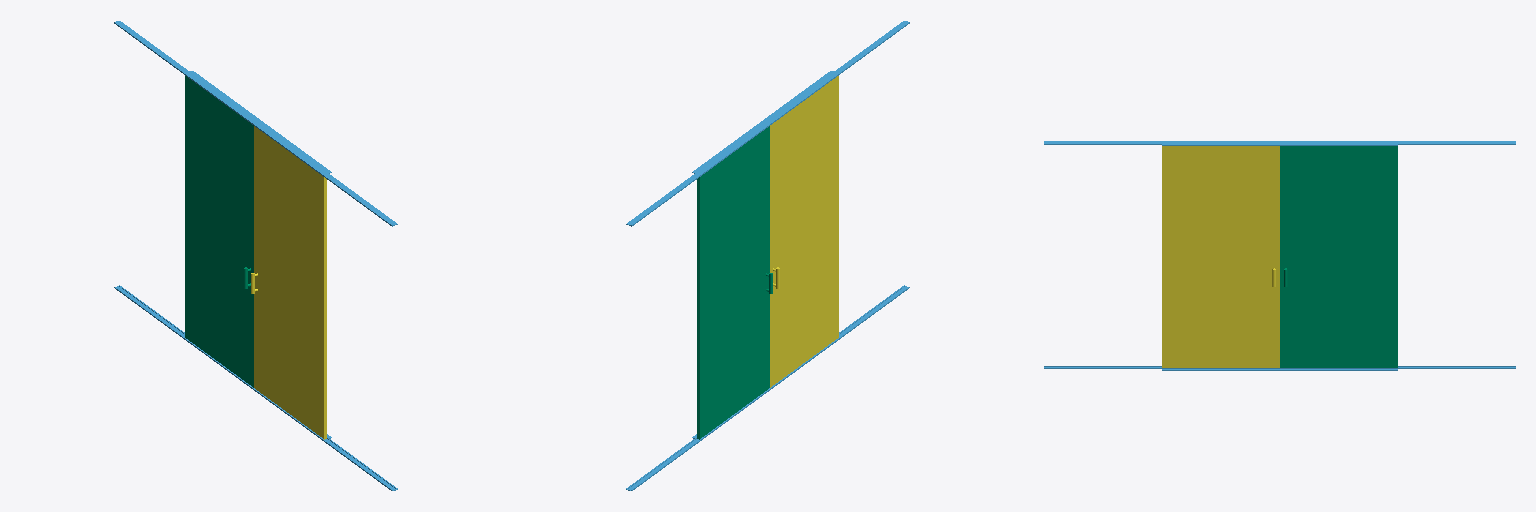
URDF robot description (partnet_5ef7a6f3cf04e24c78c8381b988b6539):
<?xml version="1.0" ?>
<robot name="partnet_5ef7a6f3cf04e24c78c8381b988b6539">
	<link name="base"/>
	<link name="link_0">
		<visual name="outside_frame-1">
			<origin xyz="0 0 0"/>
			<geometry>
				<mesh filename="textured_objs/new-0.obj"/>
			</geometry>
		</visual>
		<visual name="outside_frame-1">
			<origin xyz="0 0 0"/>
			<geometry>
				<mesh filename="textured_objs/new-1.obj"/>
			</geometry>
		</visual>
		<collision>
			<origin xyz="0 0 0"/>
			<geometry>
				<mesh filename="textured_objs/new-0.obj"/>
			</geometry>
		</collision>
		<collision>
			<origin xyz="0 0 0"/>
			<geometry>
				<mesh filename="textured_objs/new-1.obj"/>
			</geometry>
		</collision>
	</link>
	<joint name="joint_0" type="fixed">
		<origin rpy="1.570796326794897 0 -1.570796326794897" xyz="0 0 0"/>
		<child link="link_0"/>
		<parent link="base"/>
	</joint>
	<link name="link_1">
		<visual name="surface_board-28">
			<origin xyz="0.440790408373658 -0.4935119999999995 0.0004750520092618093"/>
			<geometry>
				<mesh filename="textured_objs/new-2.obj"/>
			</geometry>
		</visual>
		<visual name="fixed_part-26">
			<origin xyz="0.440790408373658 -0.4935119999999995 0.0004750520092618093"/>
			<geometry>
				<mesh filename="textured_objs/original-16.obj"/>
			</geometry>
		</visual>
		<visual name="fixed_part-26">
			<origin xyz="0.440790408373658 -0.4935119999999995 0.0004750520092618093"/>
			<geometry>
				<mesh filename="textured_objs/original-17.obj"/>
			</geometry>
		</visual>
		<visual name="fixed_part-26">
			<origin xyz="0.440790408373658 -0.4935119999999995 0.0004750520092618093"/>
			<geometry>
				<mesh filename="textured_objs/original-15.obj"/>
			</geometry>
		</visual>
		<visual name="fixed_part-21">
			<origin xyz="0.440790408373658 -0.4935119999999995 0.0004750520092618093"/>
			<geometry>
				<mesh filename="textured_objs/original-4.obj"/>
			</geometry>
		</visual>
		<visual name="fixed_part-21">
			<origin xyz="0.440790408373658 -0.4935119999999995 0.0004750520092618093"/>
			<geometry>
				<mesh filename="textured_objs/original-5.obj"/>
			</geometry>
		</visual>
		<visual name="fixed_part-21">
			<origin xyz="0.440790408373658 -0.4935119999999995 0.0004750520092618093"/>
			<geometry>
				<mesh filename="textured_objs/original-3.obj"/>
			</geometry>
		</visual>
		<collision>
			<origin xyz="0.440790408373658 -0.4935119999999995 0.0004750520092618093"/>
			<geometry>
				<mesh filename="textured_objs/new-2.obj"/>
			</geometry>
		</collision>
		<collision>
			<origin xyz="0.440790408373658 -0.4935119999999995 0.0004750520092618093"/>
			<geometry>
				<mesh filename="textured_objs/original-16.obj"/>
			</geometry>
		</collision>
		<collision>
			<origin xyz="0.440790408373658 -0.4935119999999995 0.0004750520092618093"/>
			<geometry>
				<mesh filename="textured_objs/original-17.obj"/>
			</geometry>
		</collision>
		<collision>
			<origin xyz="0.440790408373658 -0.4935119999999995 0.0004750520092618093"/>
			<geometry>
				<mesh filename="textured_objs/original-15.obj"/>
			</geometry>
		</collision>
		<collision>
			<origin xyz="0.440790408373658 -0.4935119999999995 0.0004750520092618093"/>
			<geometry>
				<mesh filename="textured_objs/original-4.obj"/>
			</geometry>
		</collision>
		<collision>
			<origin xyz="0.440790408373658 -0.4935119999999995 0.0004750520092618093"/>
			<geometry>
				<mesh filename="textured_objs/original-5.obj"/>
			</geometry>
		</collision>
		<collision>
			<origin xyz="0.440790408373658 -0.4935119999999995 0.0004750520092618093"/>
			<geometry>
				<mesh filename="textured_objs/original-3.obj"/>
			</geometry>
		</collision>
	</link>
	<joint name="joint_1" type="continuous">
		<origin xyz="-0.440790408373658 0.4935119999999995 -0.0004750520092618093"/>
		<axis xyz="0 1 0"/>
		<child link="link_1"/>
		<parent link="link_0"/>
	</joint>
	<link name="link_2">
		<visual name="surface_board-27">
			<origin xyz="-0.45619526255052884 -0.4935119999999995 -0.0010033053058016335"/>
			<geometry>
				<mesh filename="textured_objs/new-3.obj"/>
			</geometry>
		</visual>
		<visual name="fixed_part-25">
			<origin xyz="-0.45619526255052884 -0.4935119999999995 -0.0010033053058016335"/>
			<geometry>
				<mesh filename="textured_objs/original-12.obj"/>
			</geometry>
		</visual>
		<visual name="fixed_part-25">
			<origin xyz="-0.45619526255052884 -0.4935119999999995 -0.0010033053058016335"/>
			<geometry>
				<mesh filename="textured_objs/original-13.obj"/>
			</geometry>
		</visual>
		<visual name="fixed_part-25">
			<origin xyz="-0.45619526255052884 -0.4935119999999995 -0.0010033053058016335"/>
			<geometry>
				<mesh filename="textured_objs/original-11.obj"/>
			</geometry>
		</visual>
		<visual name="fixed_part-24">
			<origin xyz="-0.45619526255052884 -0.4935119999999995 -0.0010033053058016335"/>
			<geometry>
				<mesh filename="textured_objs/original-8.obj"/>
			</geometry>
		</visual>
		<visual name="fixed_part-24">
			<origin xyz="-0.45619526255052884 -0.4935119999999995 -0.0010033053058016335"/>
			<geometry>
				<mesh filename="textured_objs/original-7.obj"/>
			</geometry>
		</visual>
		<visual name="fixed_part-24">
			<origin xyz="-0.45619526255052884 -0.4935119999999995 -0.0010033053058016335"/>
			<geometry>
				<mesh filename="textured_objs/original-9.obj"/>
			</geometry>
		</visual>
		<collision>
			<origin xyz="-0.45619526255052884 -0.4935119999999995 -0.0010033053058016335"/>
			<geometry>
				<mesh filename="textured_objs/new-3.obj"/>
			</geometry>
		</collision>
		<collision>
			<origin xyz="-0.45619526255052884 -0.4935119999999995 -0.0010033053058016335"/>
			<geometry>
				<mesh filename="textured_objs/original-12.obj"/>
			</geometry>
		</collision>
		<collision>
			<origin xyz="-0.45619526255052884 -0.4935119999999995 -0.0010033053058016335"/>
			<geometry>
				<mesh filename="textured_objs/original-13.obj"/>
			</geometry>
		</collision>
		<collision>
			<origin xyz="-0.45619526255052884 -0.4935119999999995 -0.0010033053058016335"/>
			<geometry>
				<mesh filename="textured_objs/original-11.obj"/>
			</geometry>
		</collision>
		<collision>
			<origin xyz="-0.45619526255052884 -0.4935119999999995 -0.0010033053058016335"/>
			<geometry>
				<mesh filename="textured_objs/original-8.obj"/>
			</geometry>
		</collision>
		<collision>
			<origin xyz="-0.45619526255052884 -0.4935119999999995 -0.0010033053058016335"/>
			<geometry>
				<mesh filename="textured_objs/original-7.obj"/>
			</geometry>
		</collision>
		<collision>
			<origin xyz="-0.45619526255052884 -0.4935119999999995 -0.0010033053058016335"/>
			<geometry>
				<mesh filename="textured_objs/original-9.obj"/>
			</geometry>
		</collision>
	</link>
	<joint name="joint_2" type="continuous">
		<origin xyz="0.45619526255052884 0.4935119999999995 0.0010033053058016335"/>
		<axis xyz="0 1 0"/>
		<child link="link_2"/>
		<parent link="link_0"/>
	</joint>
</robot>

--- Facts derived from the render (not from the file) ---
Views: 3 orthographic renders of the robot side by side, from view 1: azimuth 30°, elevation 25°; view 2: azimuth 150°, elevation 25°; view 3: azimuth 270°, elevation 25°.
Model partnet_5ef7a6f3cf04e24c78c8381b988b6539 with 4 links and 3 joints (2 continuous, 1 fixed), rooted at base, posed every joint at zero.
Visible links, largest first — view 1: link_2, link_1, link_0; view 2: link_1, link_2, link_0; view 3: link_1, link_2, link_0.
Boxes of the visible links, <box> form: link_2: <box>251,126,326,439</box>; link_1: <box>185,76,253,387</box>; link_0: <box>114,21,397,490</box>; link_1: <box>697,126,772,439</box>; link_2: <box>770,76,838,387</box>; link_0: <box>626,21,909,490</box>; link_1: <box>1280,146,1397,367</box>; link_2: <box>1162,146,1279,367</box>; link_0: <box>1044,141,1515,370</box>.
Bounding box of the posed robot: 0.0635 × 1.81 × 0.9568 m (x, y, z).
16 mesh visuals loaded from 16 distinct referenced files (16 OBJ).
